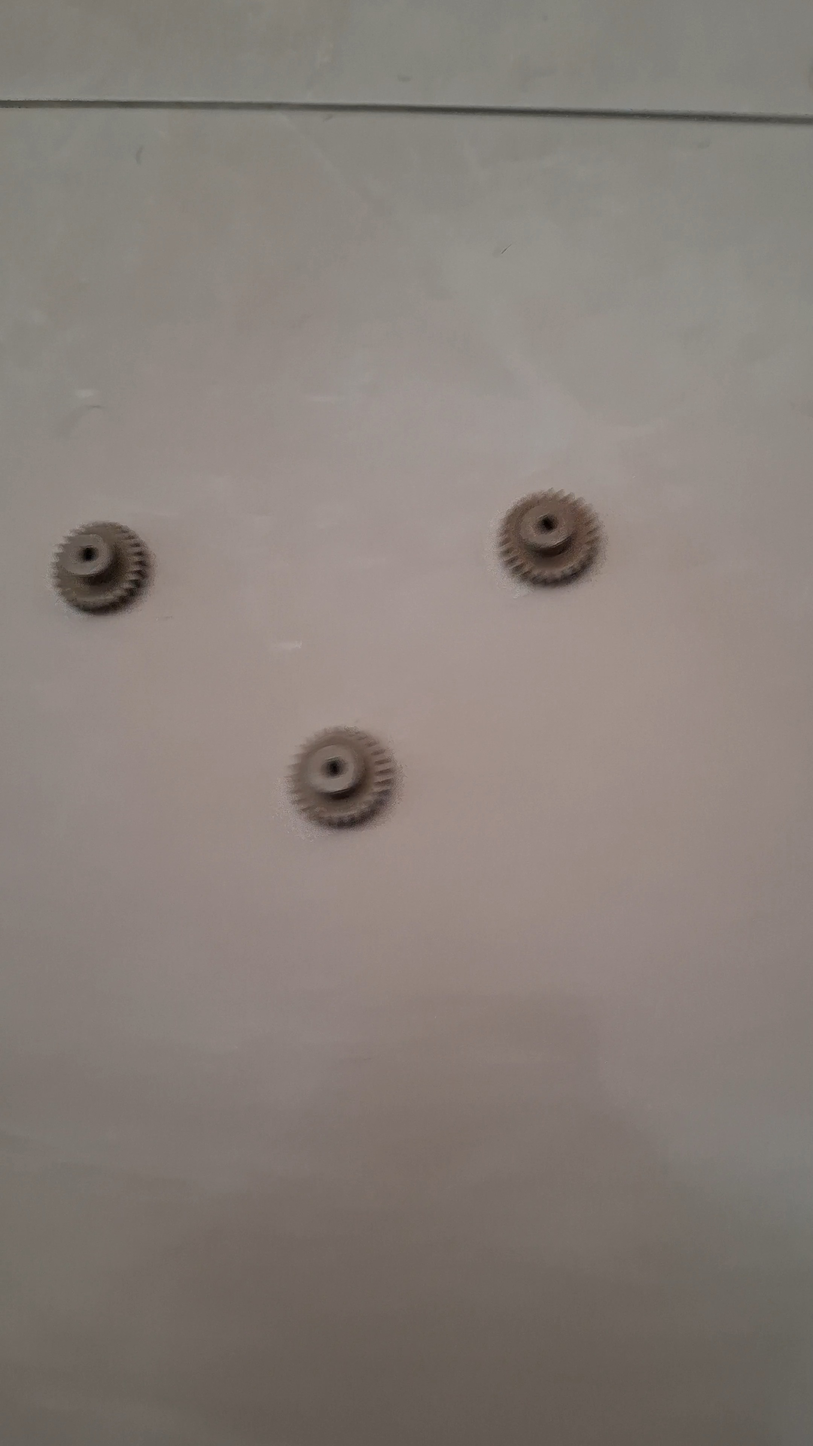spur gear: (289, 728, 395, 827), (498, 491, 599, 584), (52, 522, 149, 612)
